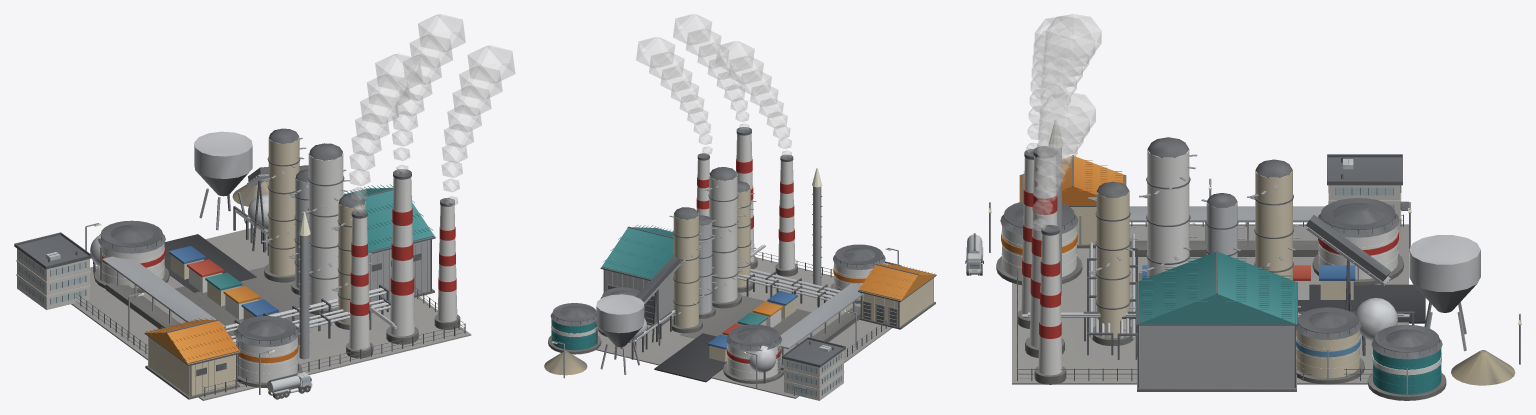
The model's file is Refinery_P3.fbx.
3 renders of one model, left to right at view 1: azimuth 30°, elevation 25°; view 2: azimuth 150°, elevation 25°; view 3: azimuth 270°, elevation 25°, orthographic. The views are drawn at different scales.
Visible parts, largest first — view 1: Refinery.Pad, Refinery.Shed, Refinery.Col2, Refinery.Smoke1, Refinery.Smoke2, Refinery.Office, Refinery.Smoke0, Refinery.Col0, Refinery.Hall, Refinery.Stack0, Refinery.Tank3, Refinery.Bay (+16 smaller); view 2: Refinery.Pad, Refinery.Hall, Refinery.Shed, Refinery.Col2, Refinery.Col0, Refinery.Office, Refinery.Smoke1, Refinery.Smoke2, Refinery.Smoke0, Refinery.Tank0, Refinery.Bay, Refinery.Intake (+16 smaller); view 3: Refinery.Hall, Refinery.Pad, Refinery.Col2, Refinery.Col3, Refinery.Tank1, Refinery.Smoke2, Refinery.Intake, Refinery.Tank0, Refinery.Tank2, Refinery.Col0, Refinery.Smoke0, Refinery.Office (+18 smaller).
Boxes of the visible parts, left/top/right/bottom form: Refinery.Pad: left=71, top=227, right=471, bottom=400; Refinery.Shed: left=144, top=318, right=240, bottom=399; Refinery.Col2: left=302, top=143, right=349, bottom=315; Refinery.Smoke1: left=349, top=54, right=422, bottom=213; Refinery.Smoke2: left=441, top=45, right=515, bottom=205; Refinery.Office: left=14, top=232, right=92, bottom=309; Refinery.Smoke0: left=392, top=14, right=465, bottom=174; Refinery.Col0: left=261, top=128, right=306, bottom=282; Refinery.Hall: left=343, top=184, right=435, bottom=305; Refinery.Stack0: left=386, top=169, right=418, bottom=344; Refinery.Tank3: left=234, top=316, right=302, bottom=387; Refinery.Bay: left=102, top=256, right=225, bottom=328; Refinery.Pad: left=596, top=257, right=891, bottom=398; Refinery.Hall: left=600, top=225, right=673, bottom=327; Refinery.Shed: left=858, top=263, right=936, bottom=329; Refinery.Col2: left=704, top=167, right=743, bottom=308; Refinery.Col0: left=669, top=207, right=704, bottom=333; Refinery.Office: left=782, top=337, right=845, bottom=400; Refinery.Smoke1: left=716, top=41, right=791, bottom=158; Refinery.Smoke2: left=636, top=37, right=712, bottom=154; Refinery.Smoke0: left=673, top=14, right=749, bottom=131; Refinery.Tank0: left=723, top=324, right=783, bottom=383; Refinery.Bay: left=780, top=283, right=863, bottom=370; Refinery.Intake: left=596, top=294, right=644, bottom=374; Refinery.Hall: left=1136, top=250, right=1297, bottom=391; Refinery.Pad: left=1012, top=224, right=1425, bottom=384; Refinery.Col2: left=1139, top=137, right=1197, bottom=277; Refinery.Col3: left=1088, top=181, right=1137, bottom=345; Refinery.Tank1: left=1367, top=324, right=1446, bottom=400; Refinery.Smoke2: left=1032, top=92, right=1095, bottom=230; Refinery.Intake: left=1409, top=235, right=1480, bottom=351; Refinery.Tank0: left=1312, top=198, right=1403, bottom=285; Refinery.Tank2: left=1296, top=307, right=1364, bottom=384; Refinery.Col0: left=1247, top=159, right=1301, bottom=307; Refinery.Smoke0: left=1038, top=14, right=1101, bottom=151; Refinery.Office: left=1327, top=154, right=1408, bottom=234.
Bounding box in the file's own units: 9126 × 7366 × 10089.
